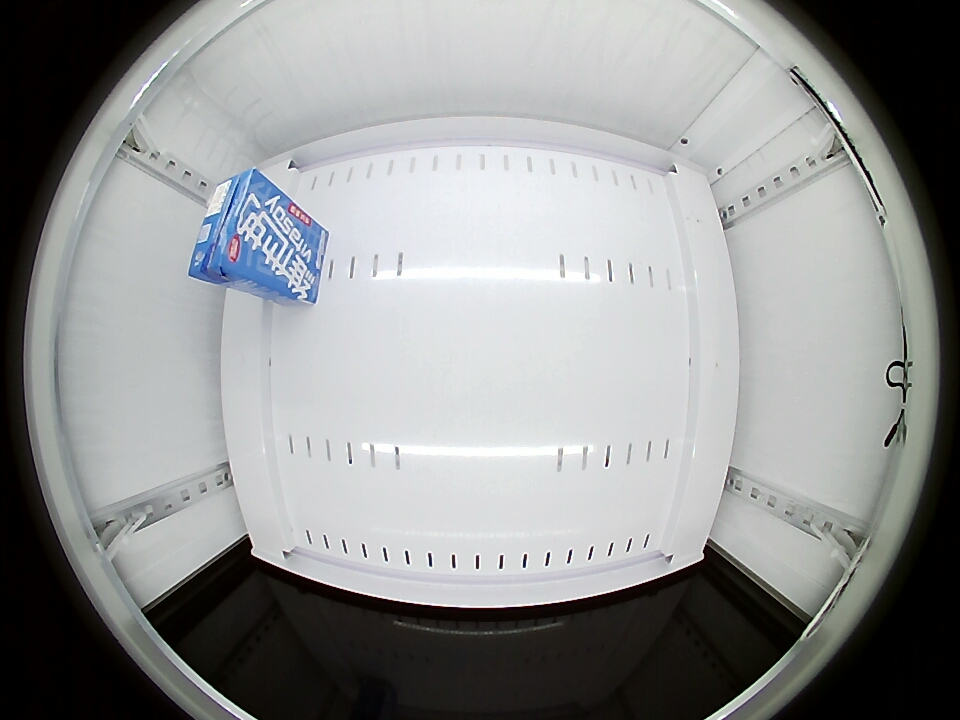weitanai: (189, 168, 289, 288)
